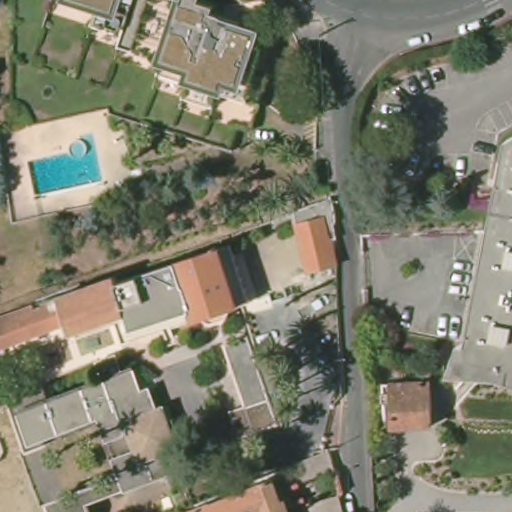pool: (26, 133, 105, 199)
